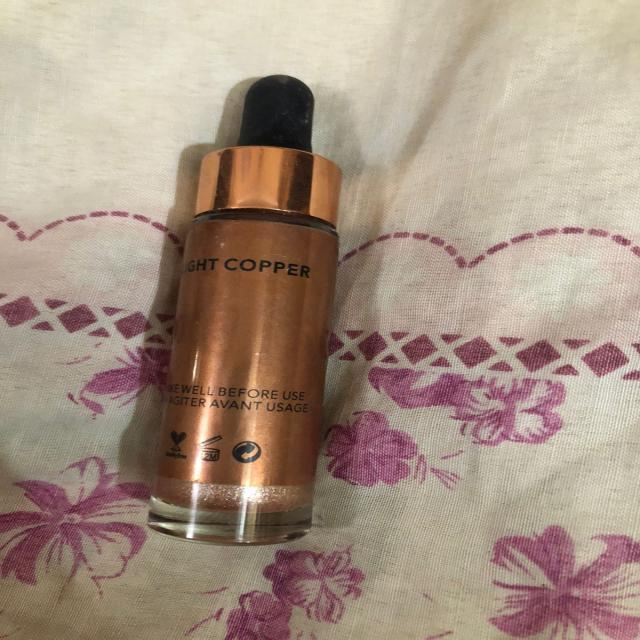serum: (150, 68, 351, 592)
